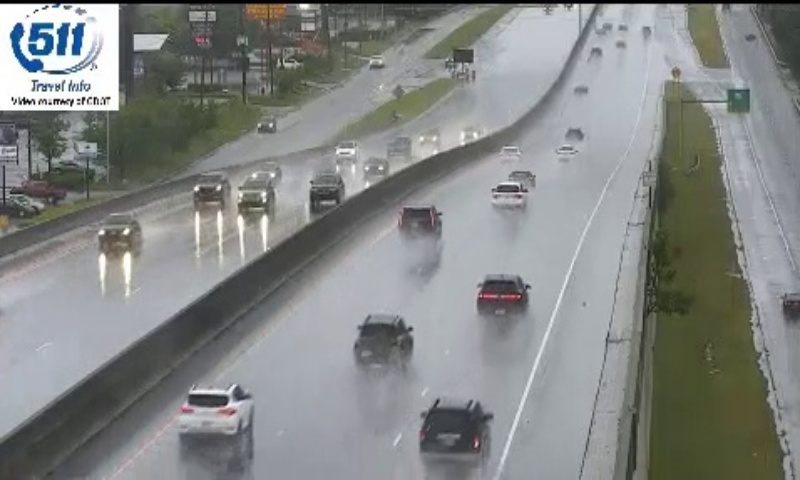car: (418, 400, 490, 459), (179, 384, 252, 434), (354, 314, 413, 363), (478, 274, 527, 316), (398, 205, 441, 240), (492, 182, 528, 209)
